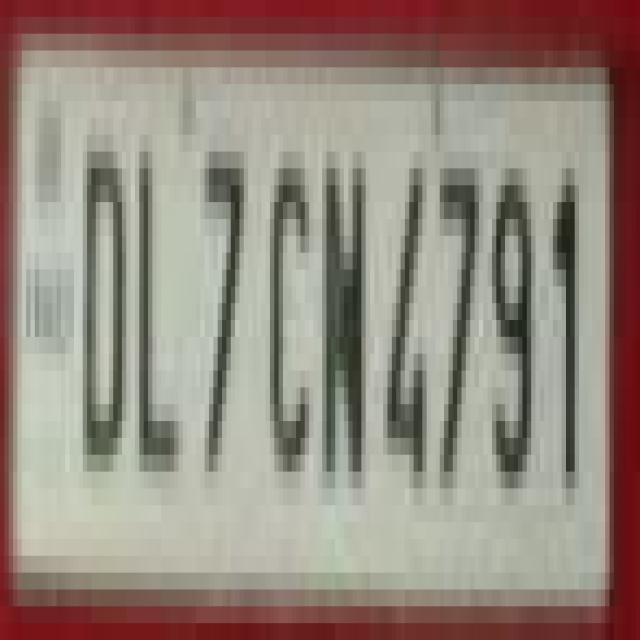plate: (0, 0, 610, 623)
